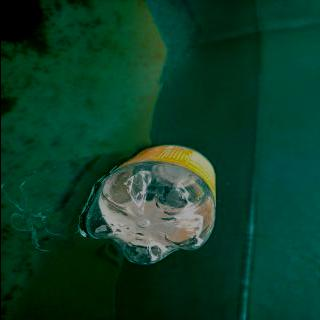bottle: (81, 143, 220, 267)
